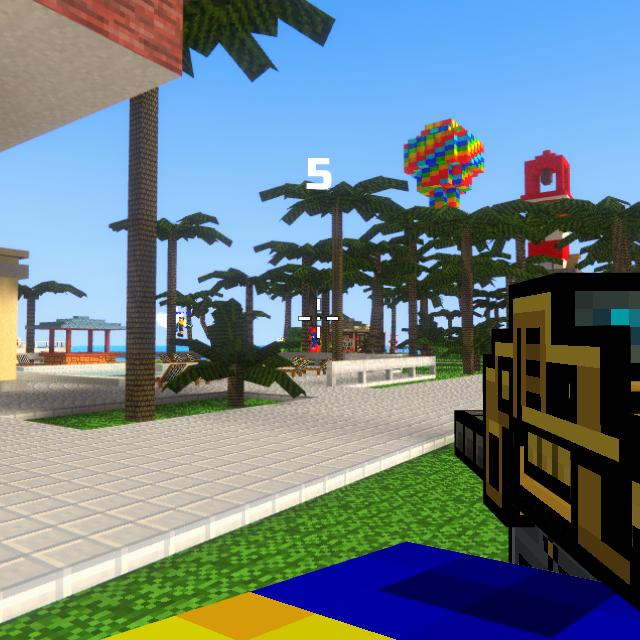Enemy: (311, 332, 318, 350)
